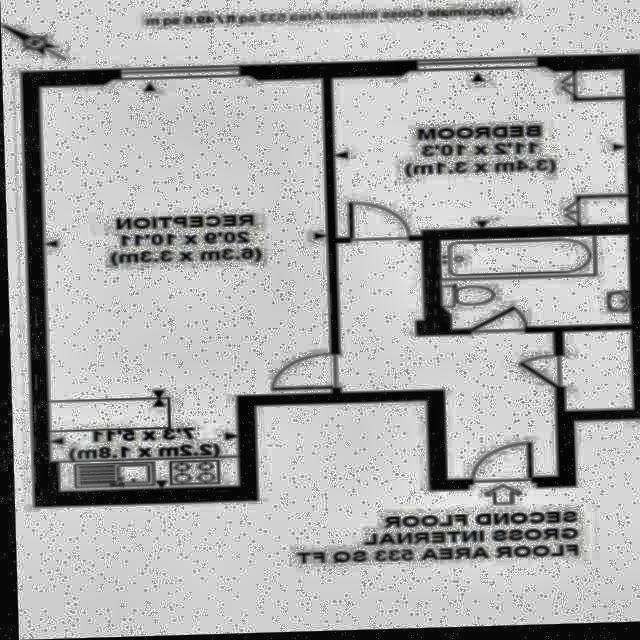room: (38, 75, 331, 492), (335, 238, 631, 485), (330, 67, 628, 240), (438, 238, 629, 333)
